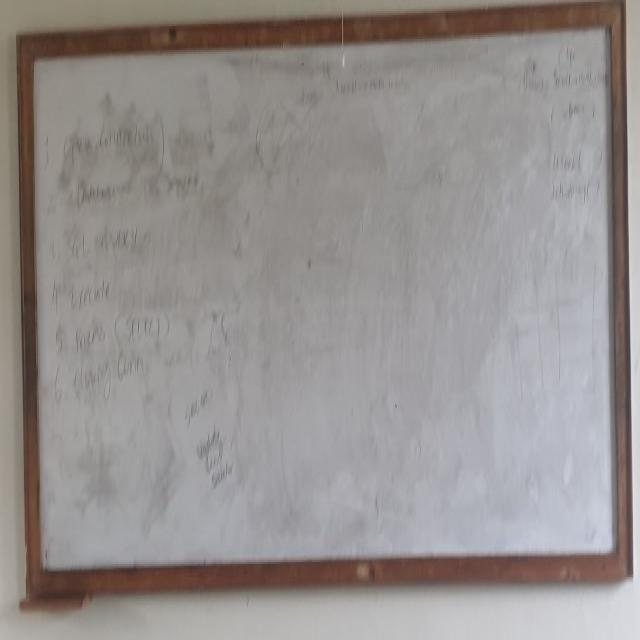White-board: (25, 14, 624, 581)
